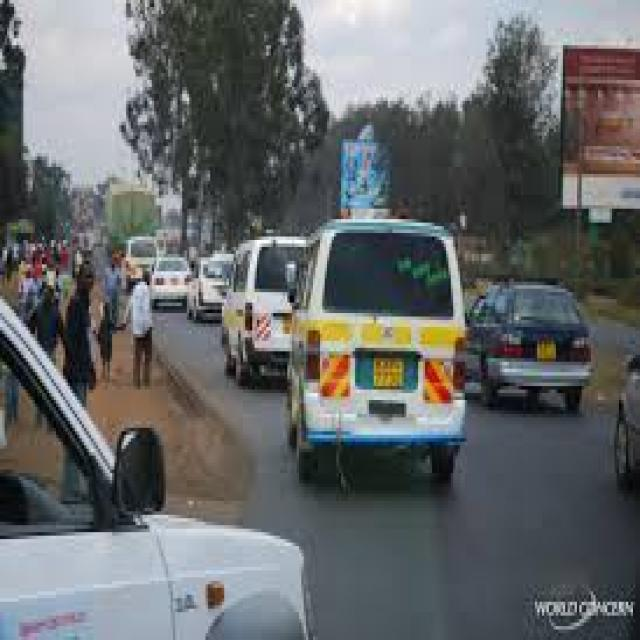matatu: (294, 213, 485, 498), (216, 227, 282, 410)
